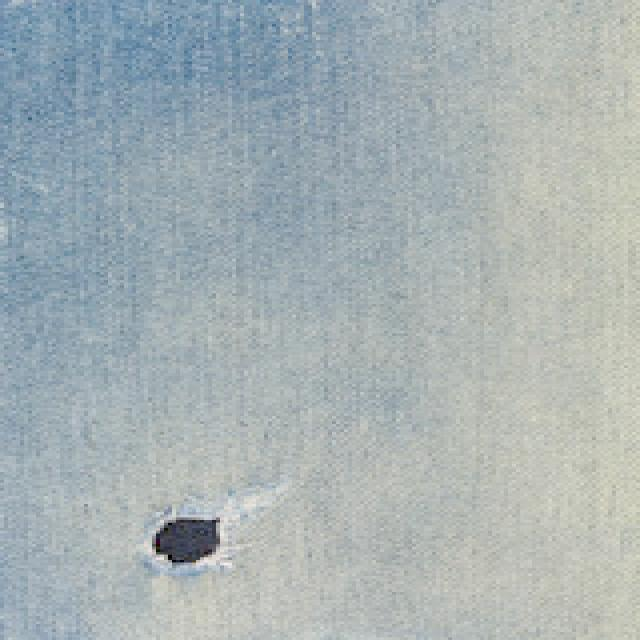other: (108, 457, 266, 590)
